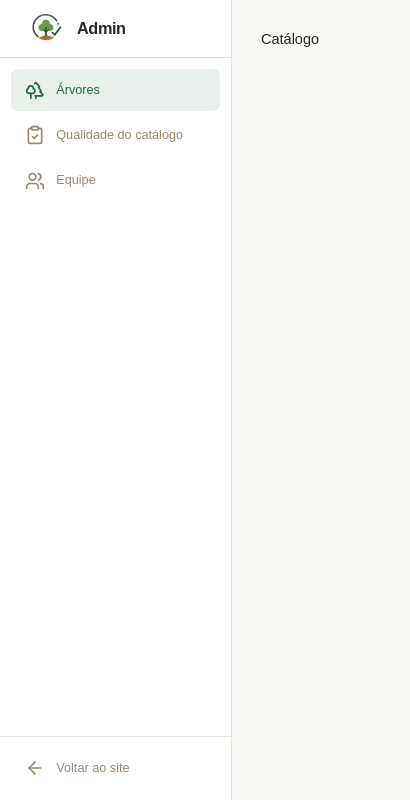
AdminLayout › navigates to the catalog quality page from the admin navigation
The width and height of the screenshot is (410, 800).
Click the button "Qualidade do catálogo" at {"x": 116, "y": 135}, box [11,114,220,156]
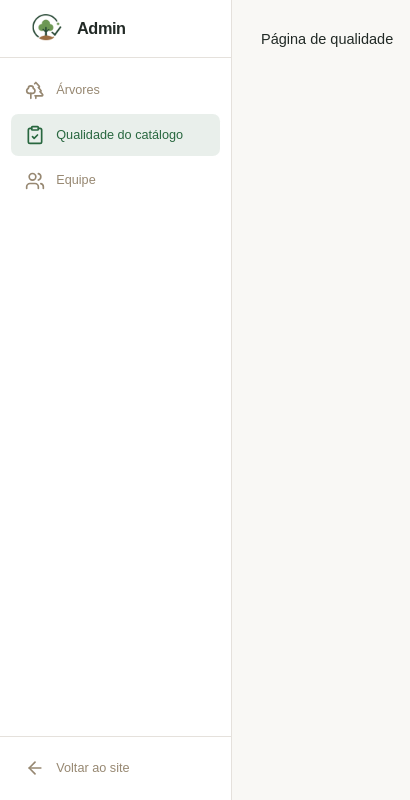
expect the text "Página de qualidade" is shown: met, box [261,31,393,47]
